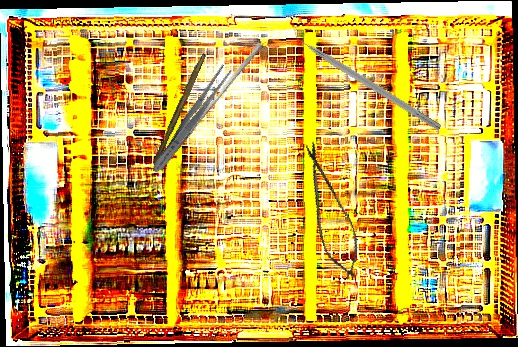Chopper: (286, 21, 447, 132)
Dressing Forceps: (148, 62, 234, 177)
Micro Scissor: (291, 137, 369, 285)
Pusher: (157, 39, 264, 175)
Scalpel Handle: (151, 51, 207, 167)
